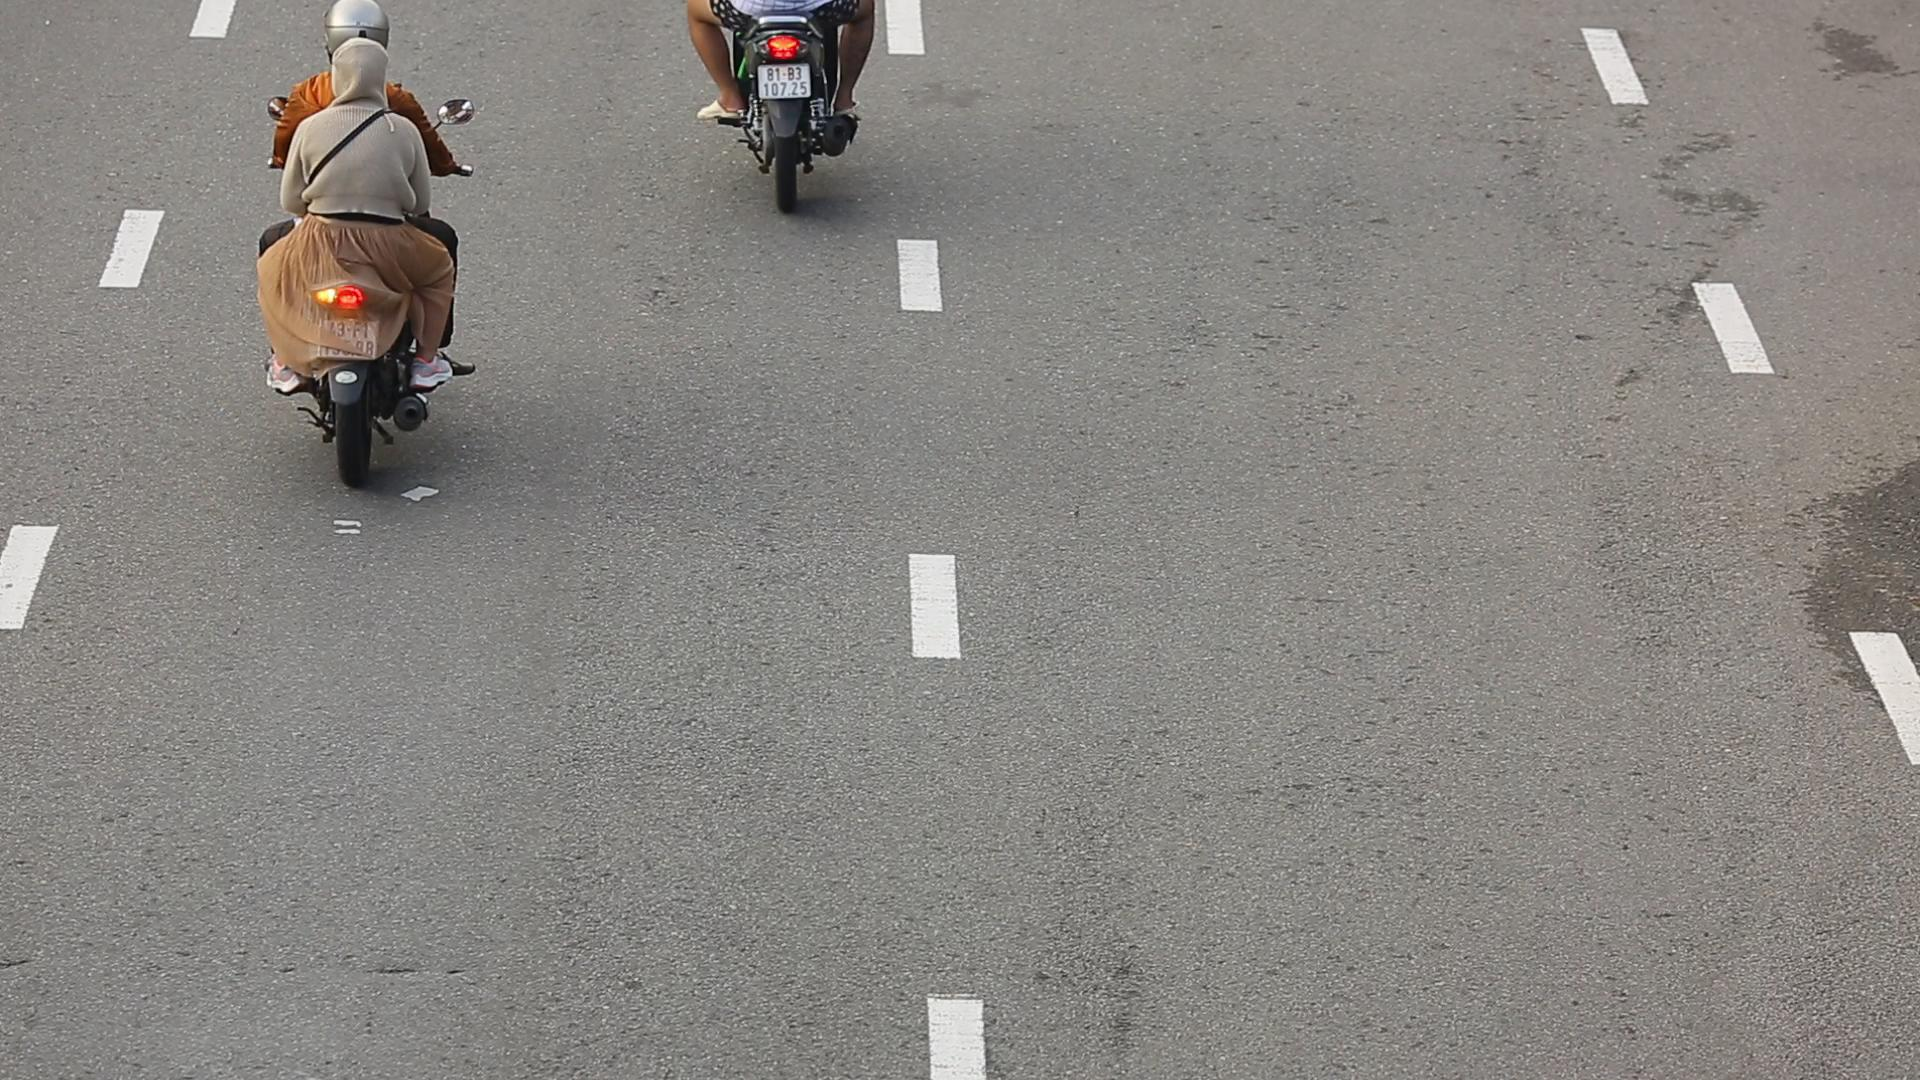motobike: (256, 0, 484, 504)
